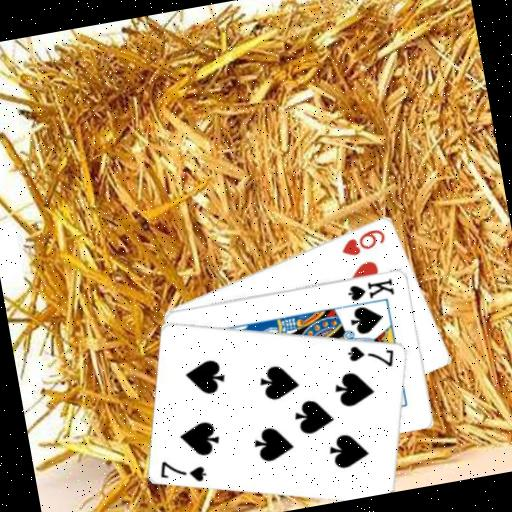6H: (336, 224, 389, 259)
7S: (343, 335, 398, 375), (155, 450, 210, 490)
KS: (344, 274, 397, 303)
